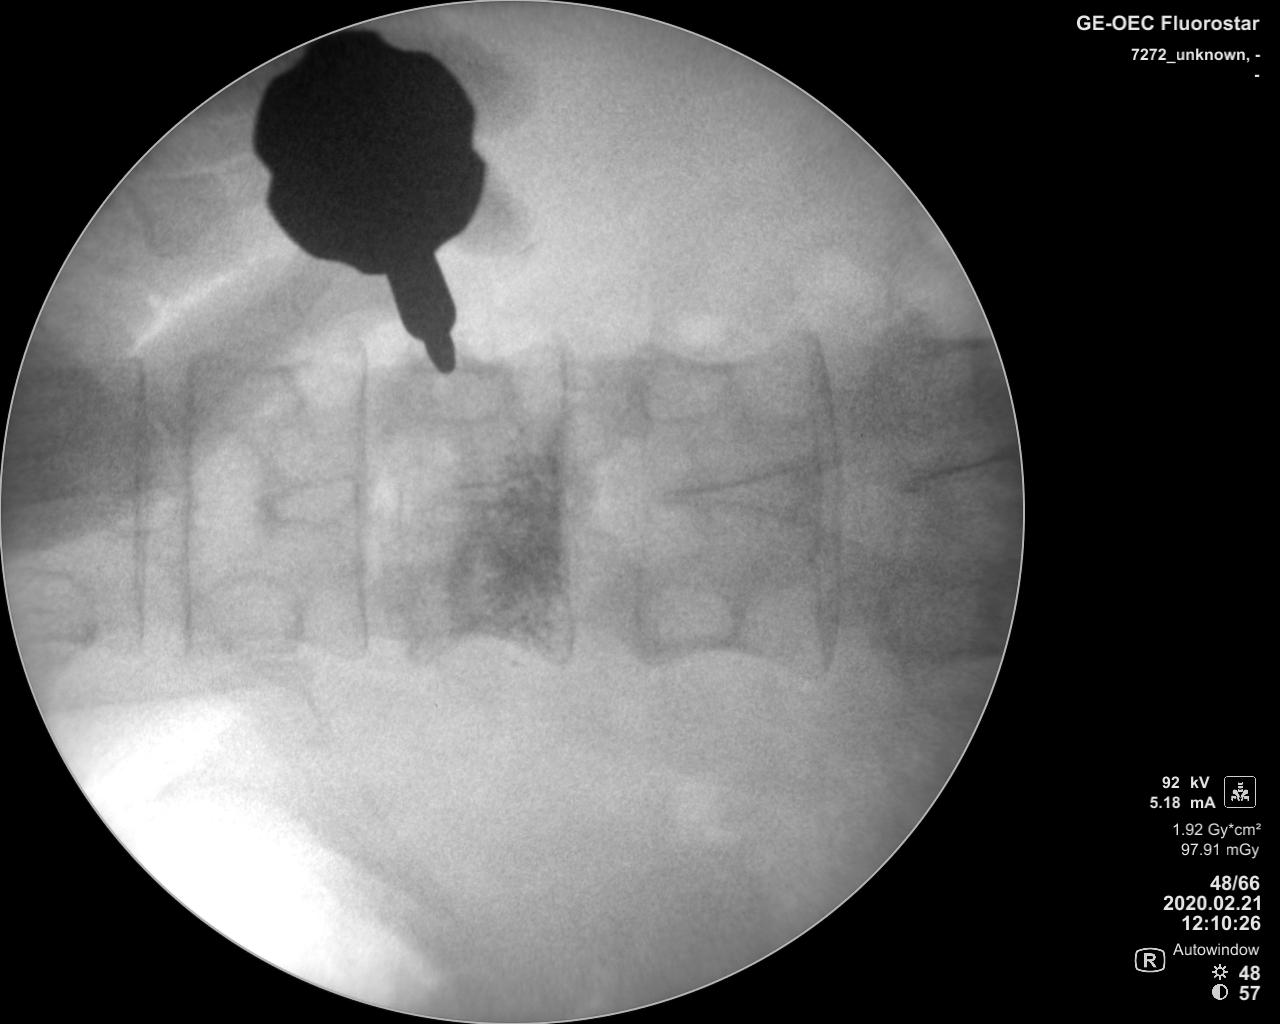eyes: (199, 567, 307, 656), (196, 358, 304, 429), (644, 577, 737, 656), (14, 574, 106, 650), (644, 348, 734, 424), (411, 366, 515, 424)
line: (796, 318, 852, 681), (545, 318, 586, 675), (341, 324, 381, 669), (113, 347, 155, 666), (622, 333, 658, 667), (170, 339, 206, 673)
nose: (645, 465, 839, 526), (871, 447, 1022, 517), (417, 459, 560, 521), (240, 473, 363, 532)
